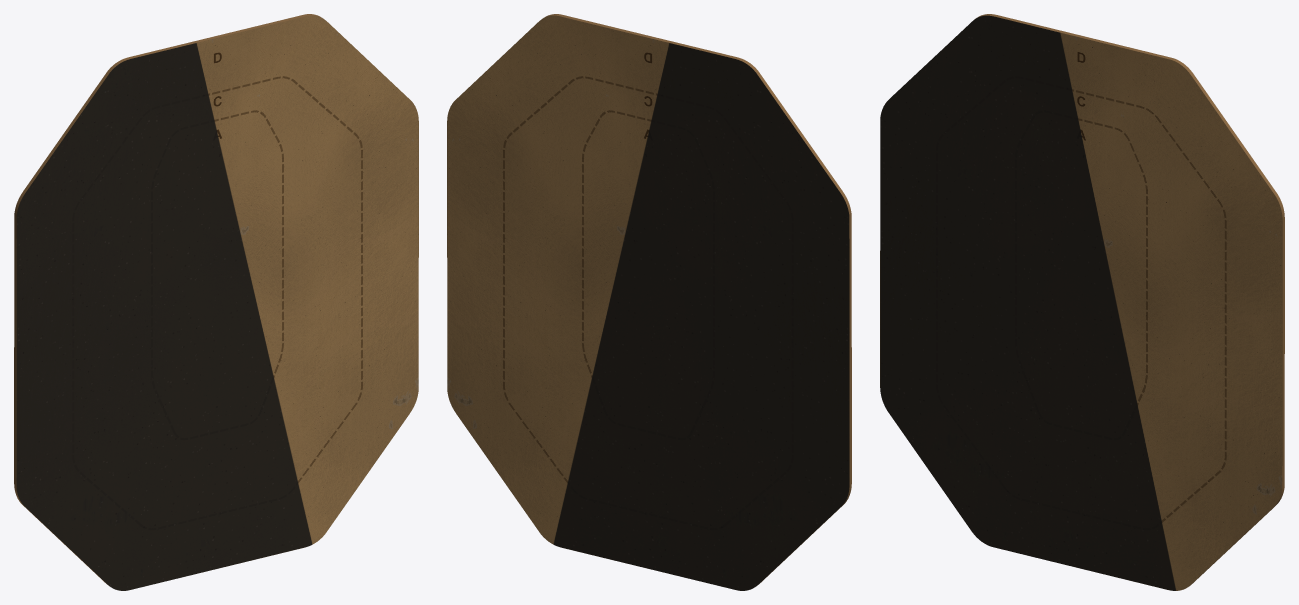
The model's file is obj_paper_hc_diagonal_card.glb.
3 views of the same model, side by side, from view 1: azimuth 30°, elevation 25°; view 2: azimuth 150°, elevation 25°; view 3: azimuth 330°, elevation 25° (orthographic).
Parts seen in each view (by area): view 1: card; view 2: card; view 3: card.
Boxes of the visible parts, box(x1,y1,x2,y2) form: card: box(14, 14, 418, 590); card: box(447, 14, 851, 590); card: box(880, 14, 1284, 590).
Bounding box in the file's own units: 0.46 × 0.58 × 0.0045.
2 materials, 1 textured.
